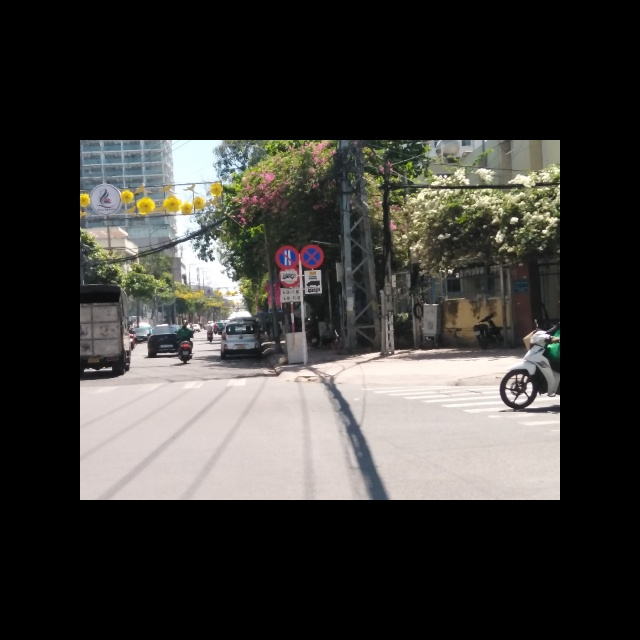Cấm dừng xe và đỗ xe: (300, 244, 324, 269)
Cấm đỗ xe ngày chẵn: (275, 245, 299, 269)
